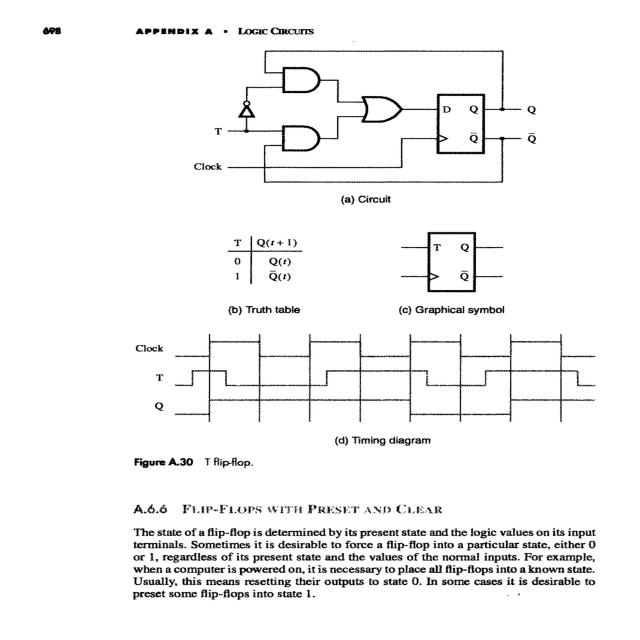diagram: (78, 41, 640, 501)
